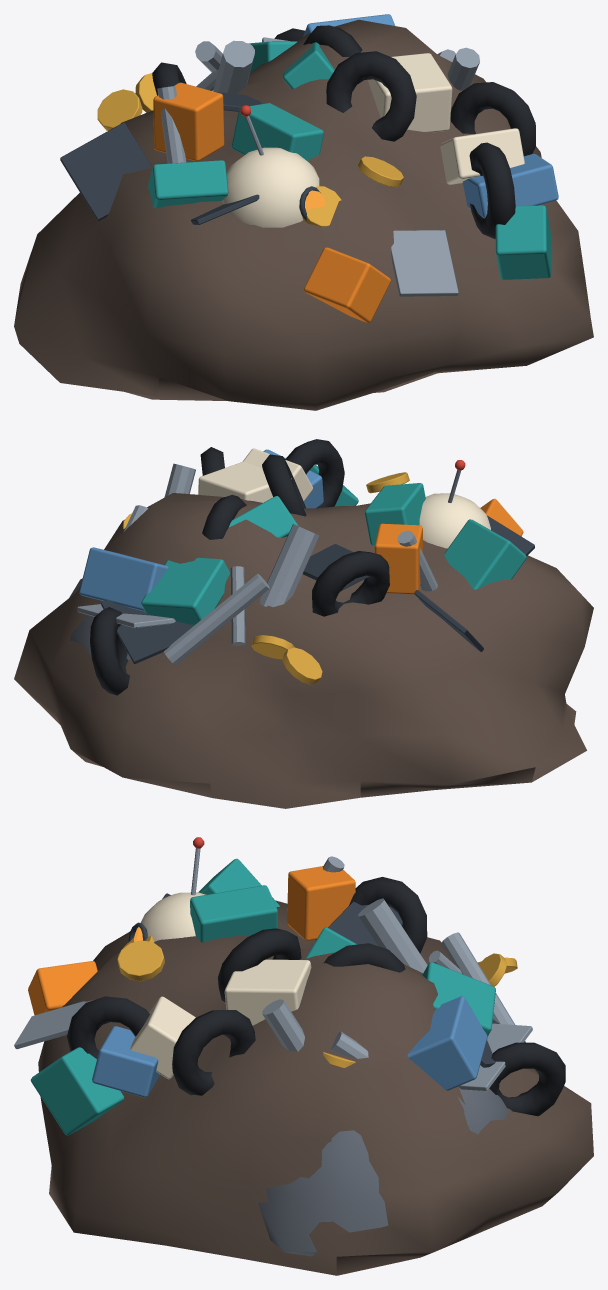
The model's file is scrap_heap.glb.
3 renders of one model, top to bottom at view 1: azimuth 30°, elevation 25°; view 2: azimuth 150°, elevation 25°; view 3: azimuth 270°, elevation 25°, orthographic. The views are drawn at different scales.
Visible parts, largest first — view 1: scrap_heap_body; view 2: scrap_heap_body; view 3: scrap_heap_body.
Part boxes in pixels (x1=…): scrap_heap_body: x1=14, y1=14, x2=593, y2=410; scrap_heap_body: x1=14, y1=439, x2=593, y2=808; scrap_heap_body: x1=14, y1=837, x2=593, y2=1275.
Size of the model in its own units: 5.24 by 2.39 by 4.91.
